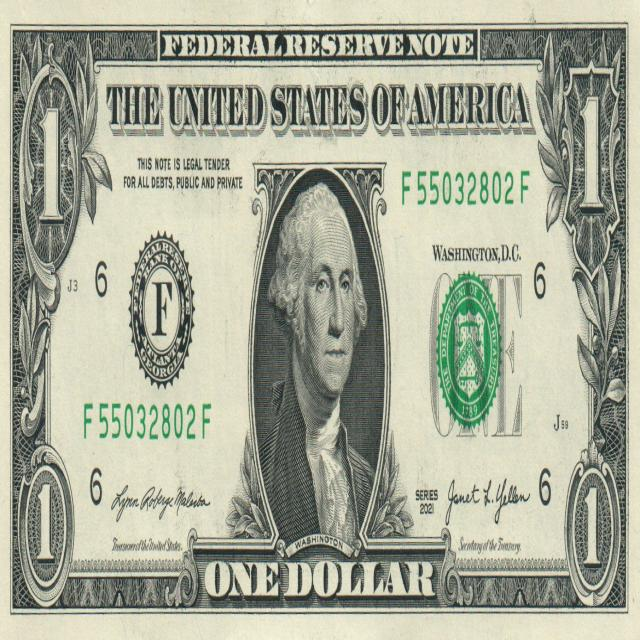SerialNumber: (84, 403, 211, 440), (403, 171, 529, 206)
